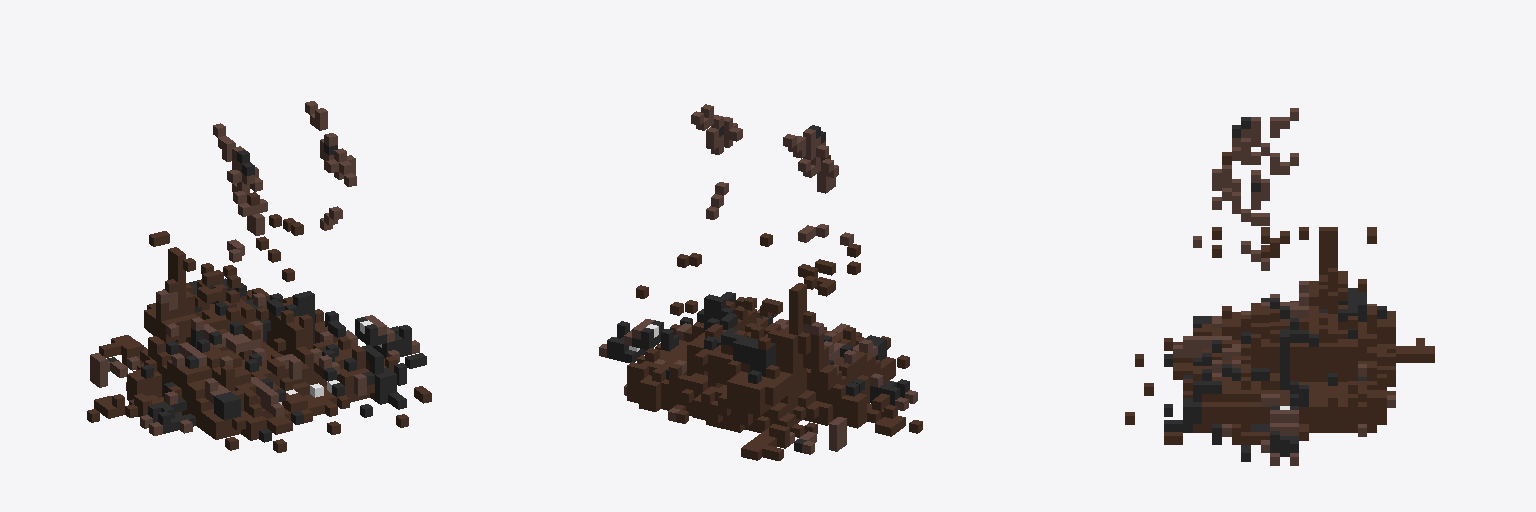
3 views of the same model, side by side, from view 1: azimuth 30°, elevation 25°; view 2: azimuth 150°, elevation 25°; view 3: azimuth 270°, elevation 25° (orthographic).
Parts seen in each view (by area): view 1: monster1_die3; view 2: monster1_die3; view 3: monster1_die3.
Boxes of the visible parts, box(x1,y1,x2,y2) form: monster1_die3: box(87, 101, 431, 452); monster1_die3: box(599, 104, 922, 460); monster1_die3: box(1125, 108, 1434, 465).
Bounding box in the file's own units: 38 × 30 × 32.
1 materials, 1 textured.